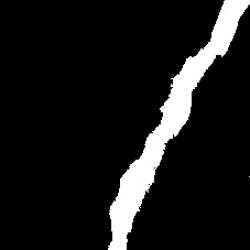crack: (108, 2, 248, 247)
